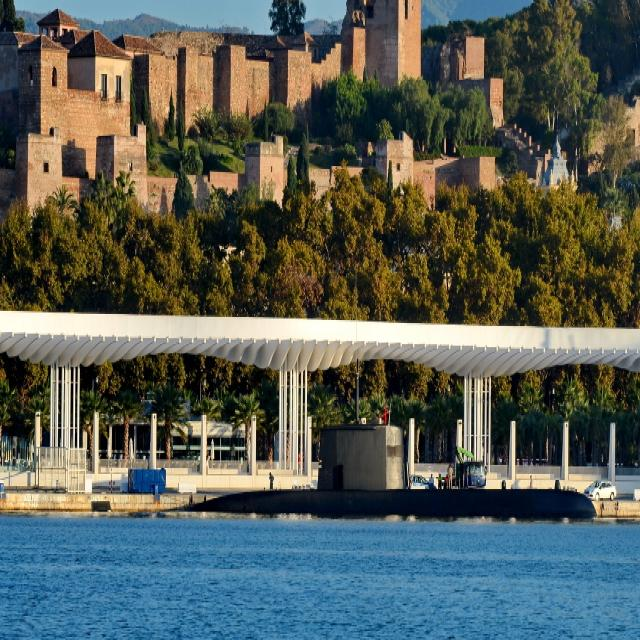submarine: (147, 421, 609, 516)
